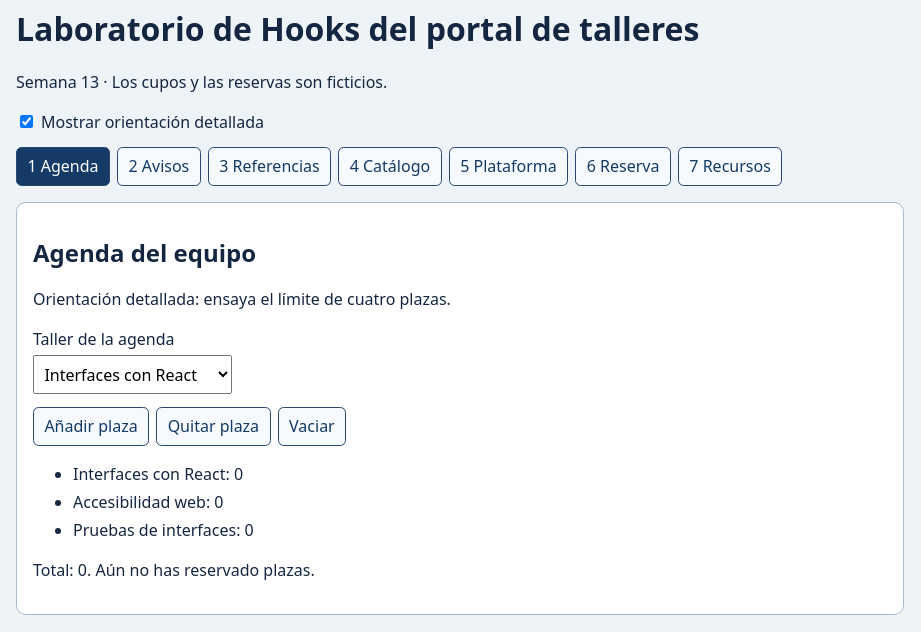
Scenario: Estado y efectos › impide cantidades negativas al quitar en un taller vacío
This screenshot has width=921, height=632.
Click the button "Quitar plaza" at (213,426), box [156,407,270,446]
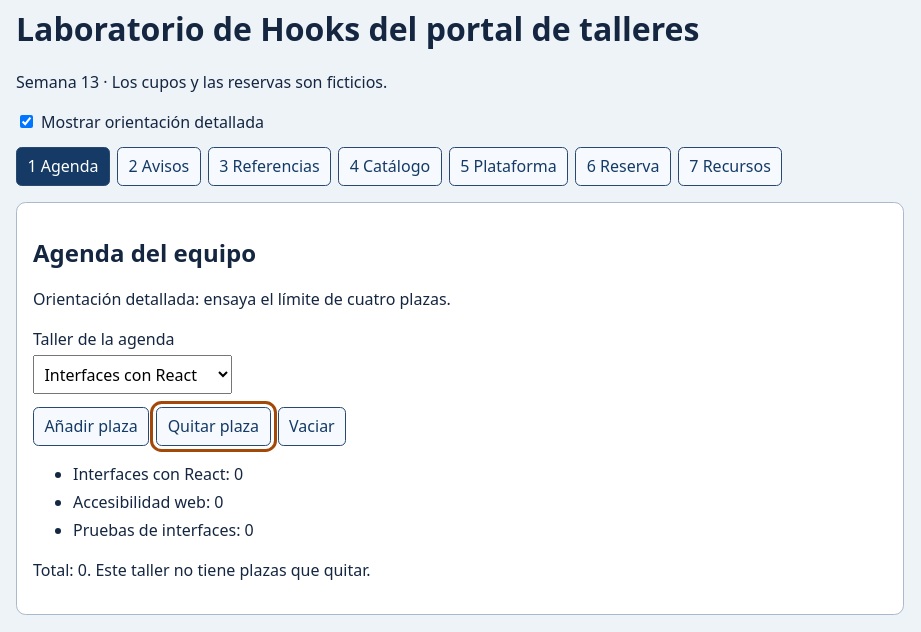
Check: the message shows "Total: 0.", box [33,559,371,581]
Check: the message shows "no tiene plazas", box [95,559,371,581]
